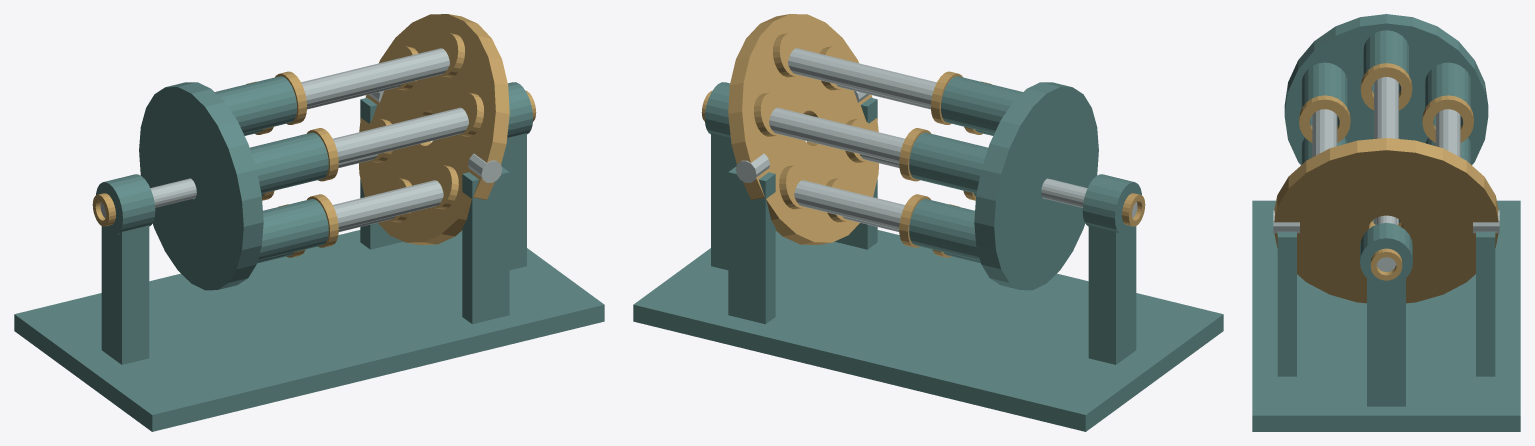
The picture shows the model from 3 angles, left to right: view 1: azimuth 30°, elevation 25°; view 2: azimuth 150°, elevation 25°; view 3: azimuth 270°, elevation 25°; orthographic projection. The views are drawn at different scales.
Parts seen in each view (by area): view 1: WholeCommonGroundBed, WholeAnnularRearCarrier, WholeInclinedAnnularPlate, WholePlateSidePedestal-1, WholeBearingPedestal0, WholeAxialPlunger1, WholeAxialPlunger2, WholeOpenBoreSleeve2, WholeOpenBoreSleeve3, WholeOpenBoreSleeve1, WholeAxialPlunger3, WholeBearingPedestal1 (+12 smaller); view 2: WholeCommonGroundBed, WholeAnnularRearCarrier, WholeInclinedAnnularPlate, WholePlateSidePedestal1, WholeBearingPedestal0, WholeAxialPlunger1, WholeAxialPlunger0, WholeOpenBoreSleeve0, WholeOpenBoreSleeve5, WholeOpenBoreSleeve1, WholeAxialPlunger5, WholeBearingPedestal1 (+12 smaller); view 3: WholeCommonGroundBed, WholeInclinedAnnularPlate, WholeAnnularRearCarrier, WholeBearingPedestal1, WholePlateSidePedestal-1, WholePlateSidePedestal1, WholeBoredShaftBearing1, WholeOpenBoreSleeve0, WholeOpenBoreSleeve2, WholeOpenBoreSleeve1, WholeAxialPlunger1, WholeSleeveMouthBand0 (+10 smaller).
Boxes of the visible parts, x1,y1,x2,y2 form: WholeCommonGroundBed: (14, 230, 604, 431); WholeAnnularRearCarrier: (139, 82, 263, 290); WholeInclinedAnnularPlate: (359, 14, 509, 244); WholePlateSidePedestal-1: (462, 166, 509, 324); WholeBearingPedestal0: (101, 225, 149, 364); WholeAxialPlunger1: (301, 48, 449, 107); WholeAxialPlunger2: (333, 107, 468, 163); WholeOpenBoreSleeve2: (250, 132, 328, 193); WholeOpenBoreSleeve3: (257, 199, 328, 260); WholeOpenBoreSleeve1: (215, 76, 296, 133); WholeAxialPlunger3: (333, 180, 443, 229); WholeBearingPedestal1: (501, 133, 526, 270); WholeCommonGroundBed: (633, 230, 1223, 431); WholeAnnularRearCarrier: (974, 82, 1098, 290); WholeInclinedAnnularPlate: (728, 14, 878, 244); WholePlateSidePedestal1: (728, 166, 775, 324); WholeBearingPedestal0: (1088, 225, 1136, 364); WholeAxialPlunger1: (788, 48, 936, 107); WholeAxialPlunger0: (769, 107, 904, 163); WholeOpenBoreSleeve0: (909, 132, 987, 193); WholeOpenBoreSleeve5: (909, 199, 980, 260); WholeOpenBoreSleeve1: (941, 76, 1022, 133); WholeAxialPlunger5: (794, 180, 904, 229); WholeBearingPedestal1: (711, 133, 736, 270); WholeCommonGroundBed: (1252, 200, 1520, 431); WholeInclinedAnnularPlate: (1274, 138, 1498, 303); WholeAnnularRearCarrier: (1284, 14, 1488, 164); WholeBearingPedestal1: (1367, 279, 1405, 406); WholePlateSidePedestal-1: (1277, 231, 1296, 376); WholePlateSidePedestal1: (1476, 231, 1495, 376); WholeBoredShaftBearing1: (1360, 223, 1412, 286); WholeOpenBoreSleeve0: (1425, 62, 1471, 126); WholeOpenBoreSleeve2: (1301, 62, 1347, 126); WholeOpenBoreSleeve1: (1363, 30, 1409, 93); WholeAxialPlunger1: (1374, 77, 1398, 138); WholeSleeveMouthBand0: (1422, 95, 1473, 142).
Bounding box in the file's own units: 1.82 × 1.03 × 0.96.
